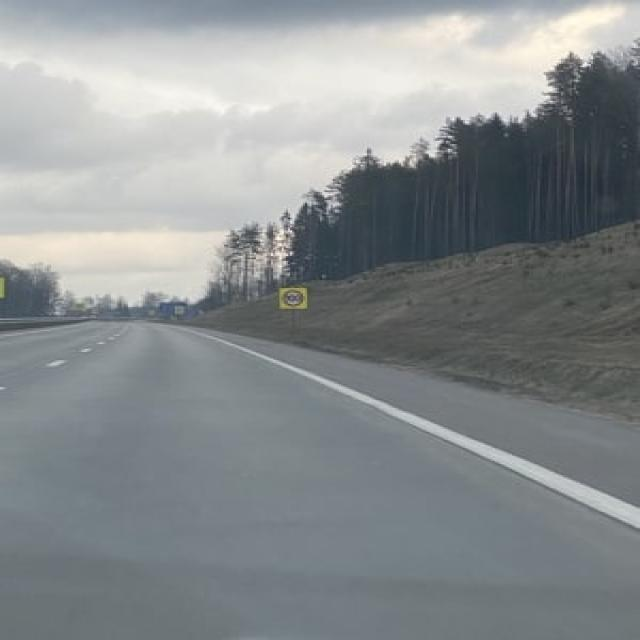Speed Limit -100-: (286, 294, 301, 302)
